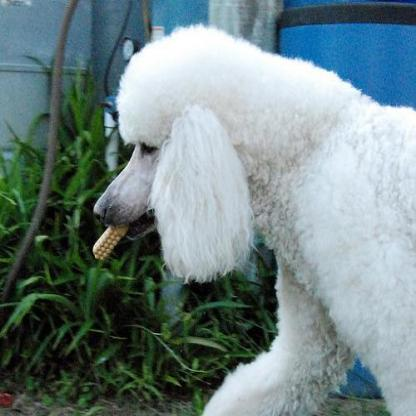standard_poodle: (88, 17, 414, 412)
